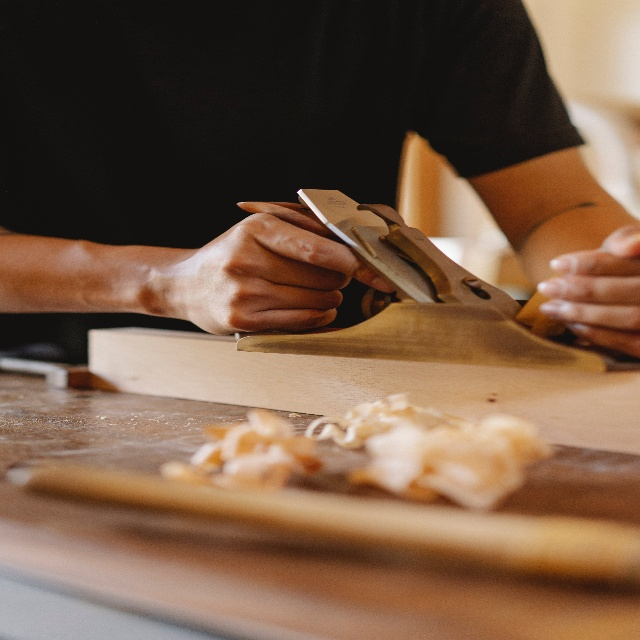Sin_guantes: (180, 212, 396, 337), (538, 224, 640, 356)
